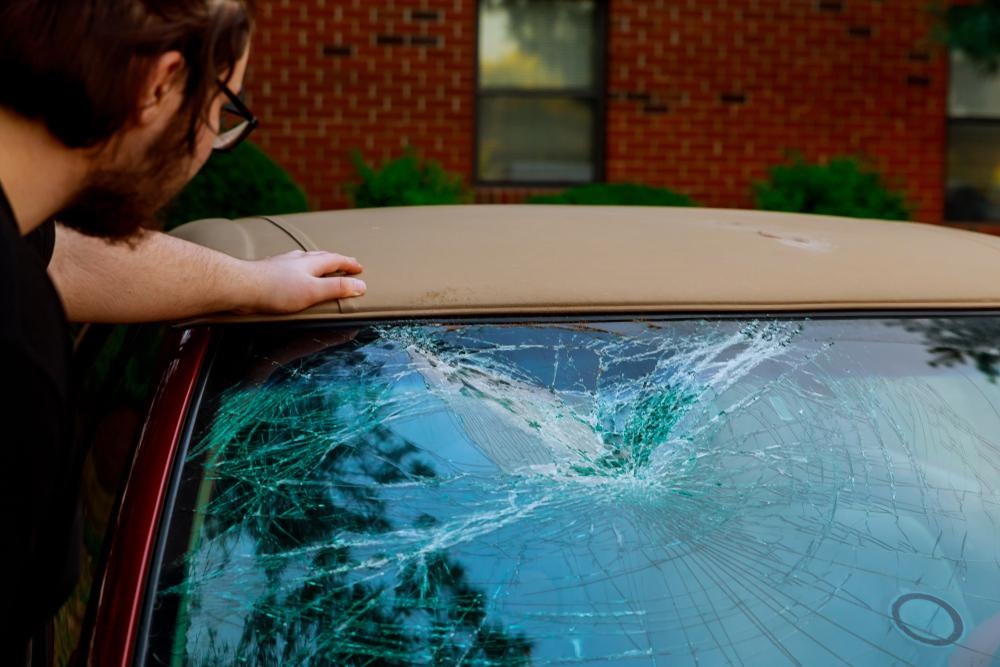glass shatter: (141, 315, 1000, 667)
